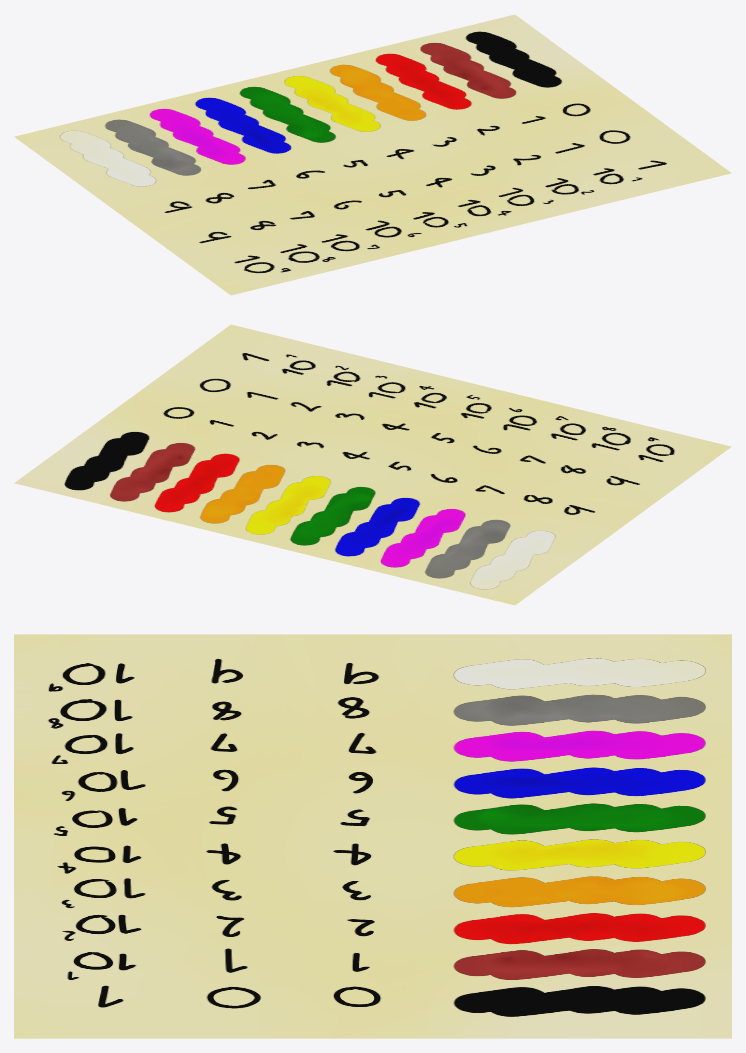
The model's file is resistorHint.fbx.
The picture shows the model from 3 angles, top to bottom: view 1: azimuth 30°, elevation 25°; view 2: azimuth 150°, elevation 25°; view 3: azimuth 270°, elevation 25°; orthographic projection. The views are drawn at different scales.
Visible parts, largest first — view 1: paper; view 2: paper; view 3: paper.
Part boxes in pixels (bbox=[...]): paper: bbox=[14, 14, 731, 295]; paper: bbox=[14, 324, 731, 605]; paper: bbox=[14, 634, 731, 1038].
Size of the model in its own units: 200 by 150 by 8.74e-06.
Materials: 1 (1 with a texture image).
